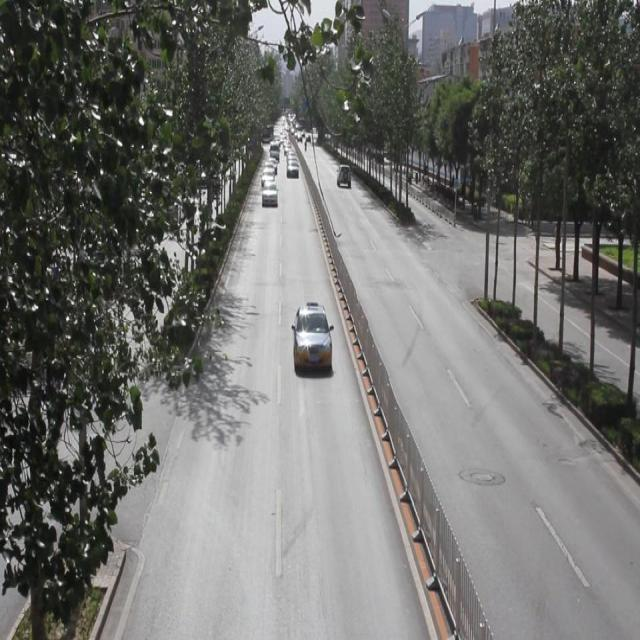car: (292, 304, 332, 374), (262, 182, 277, 208)
